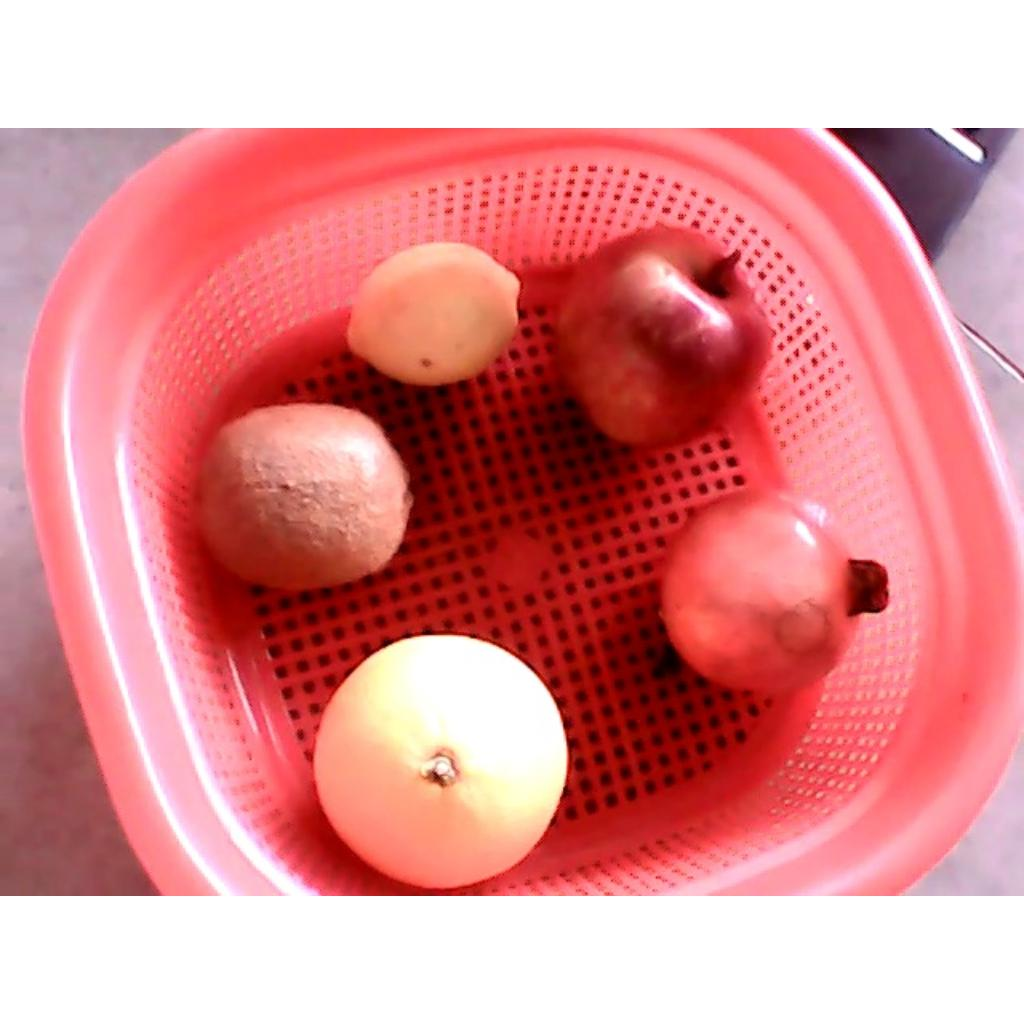apple: (556, 224, 771, 453)
kiwi: (191, 403, 414, 591)
lemon: (346, 243, 521, 386)
orange: (311, 634, 568, 891)
pomegranate: (660, 488, 891, 697)
